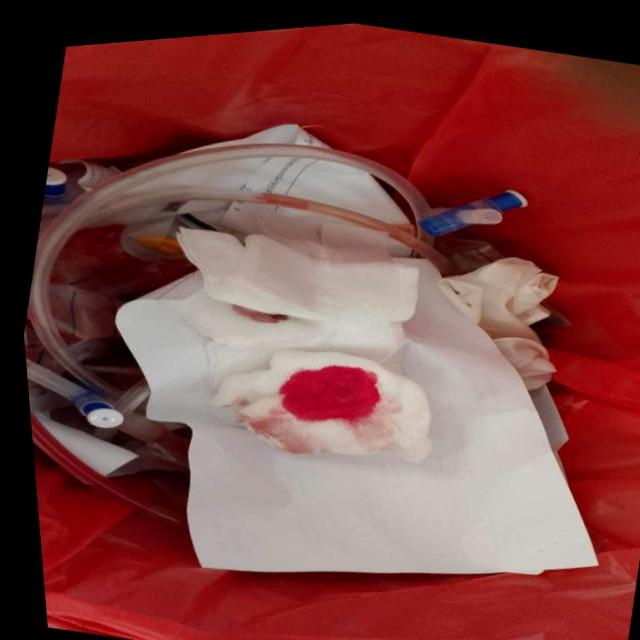General: (28, 121, 597, 580)
Infectious: (210, 347, 433, 462)
Sharps: (32, 410, 140, 478), (26, 358, 125, 429), (418, 188, 529, 237)
